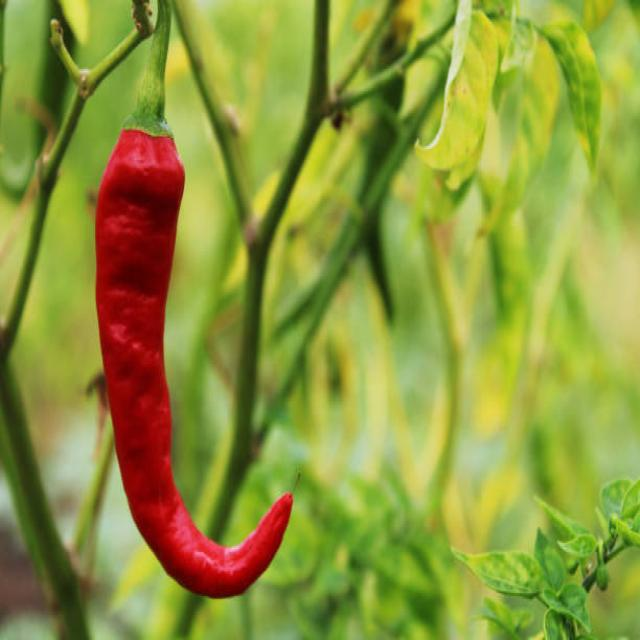Ripe: (95, 130, 292, 596)
